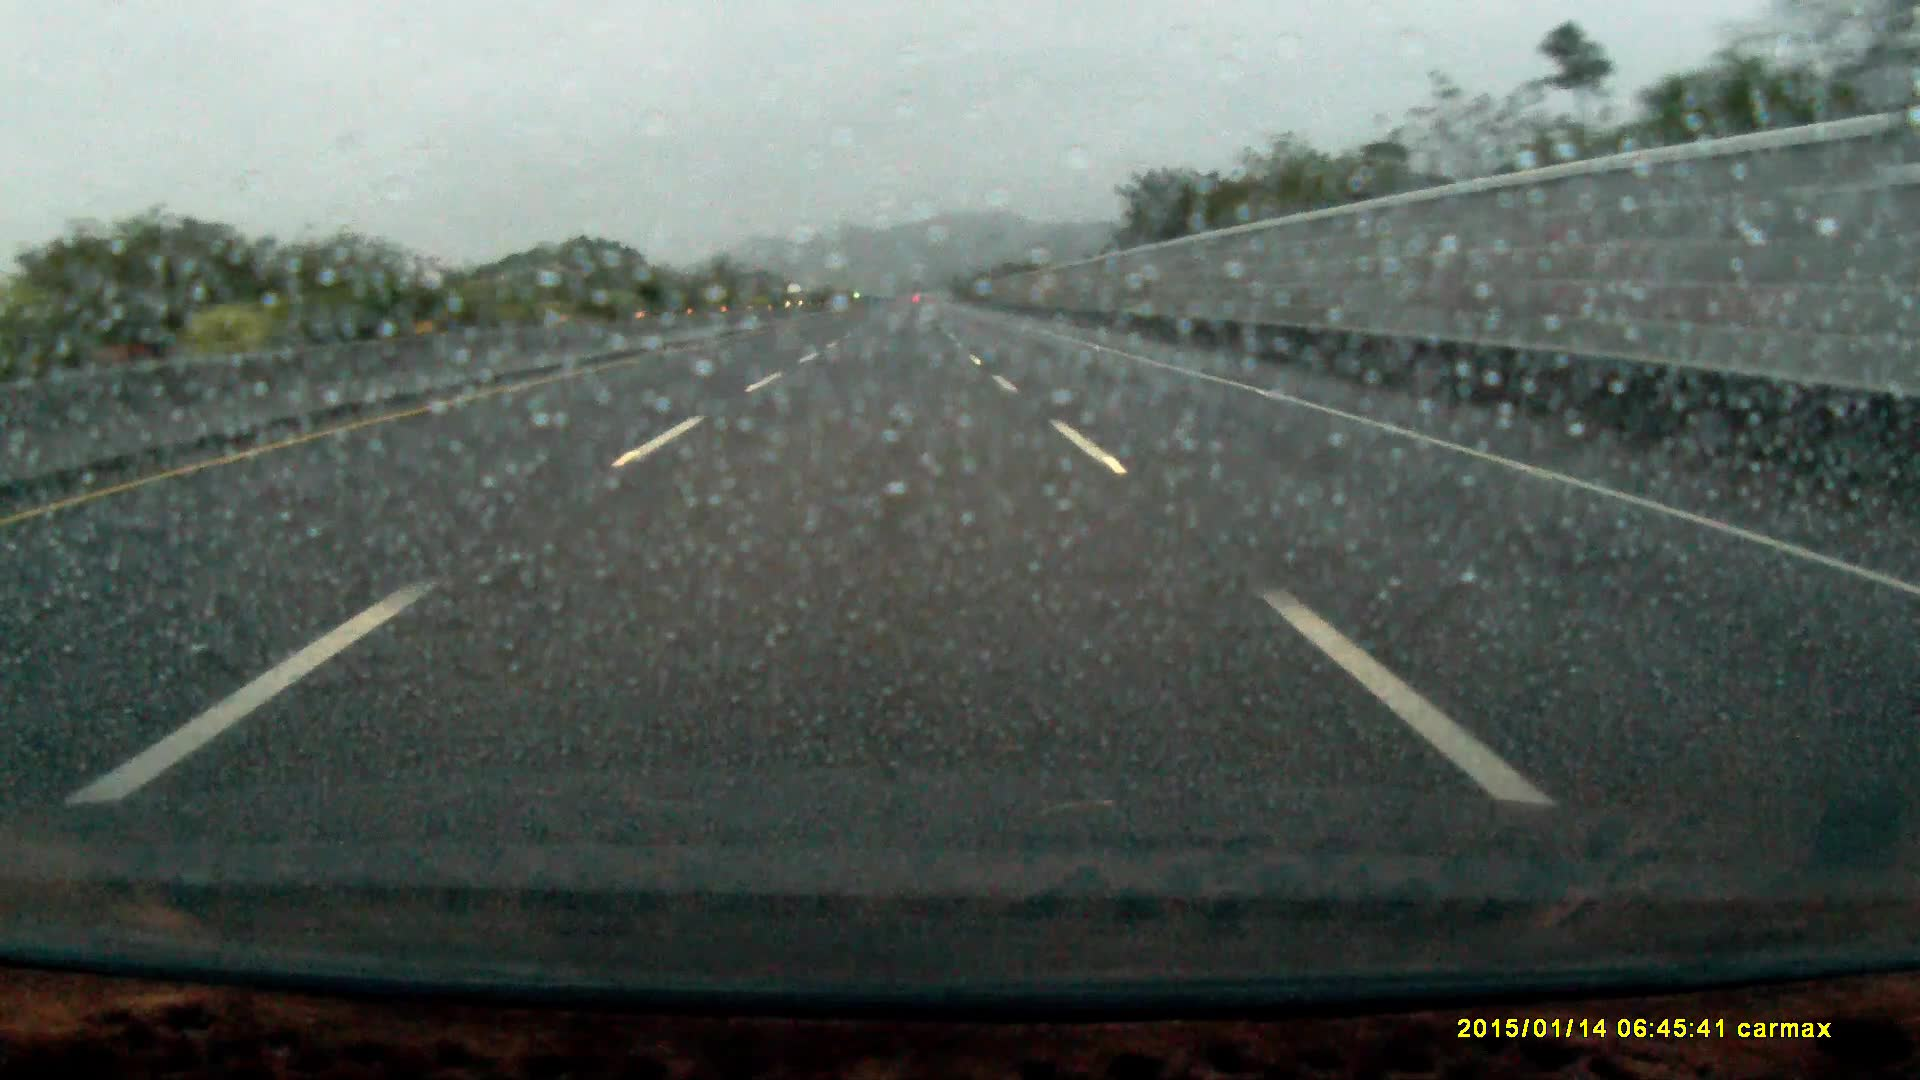vehicle: (786, 282, 811, 307)
